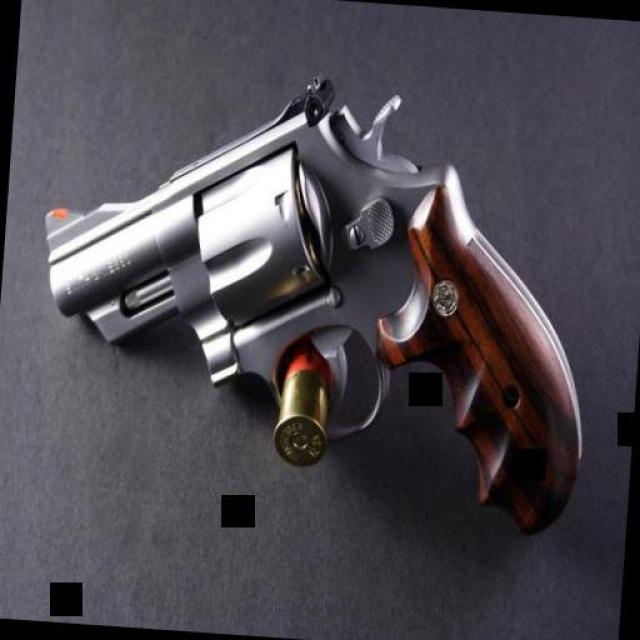gun: (21, 52, 608, 552)
